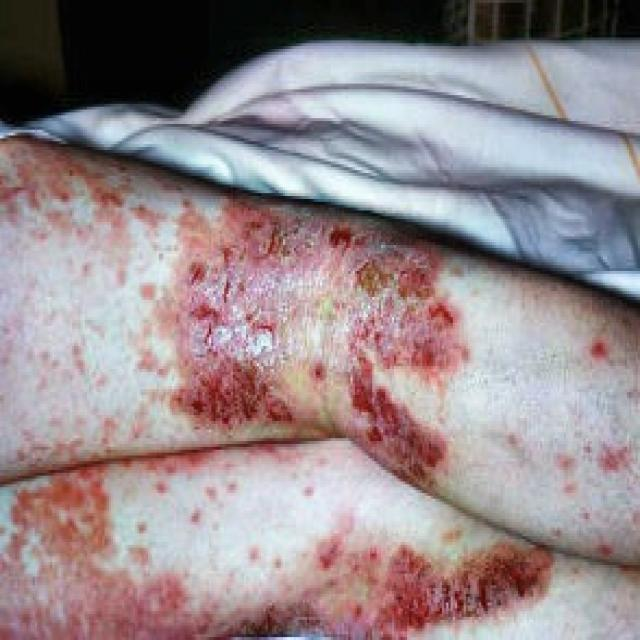Eczema: (0, 212, 467, 482), (1, 440, 554, 637)
